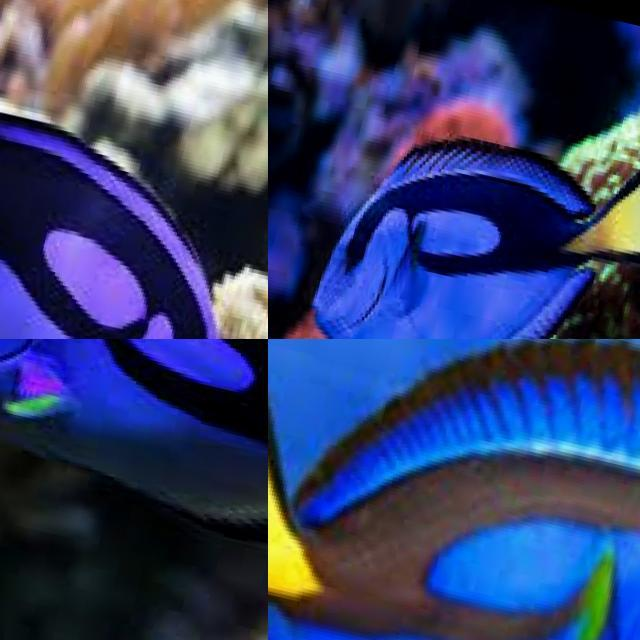BlueTang: (268, 339, 640, 640), (281, 77, 640, 339), (0, 0, 268, 339), (0, 339, 268, 617)
